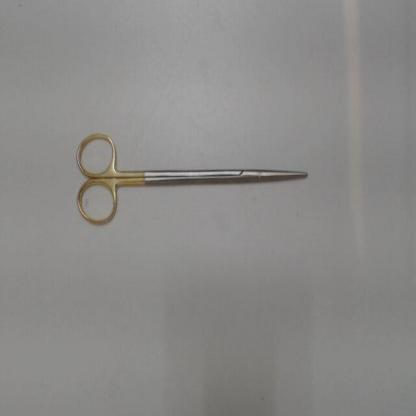7 Metzenbaum Scissors: (73, 129, 309, 228)
